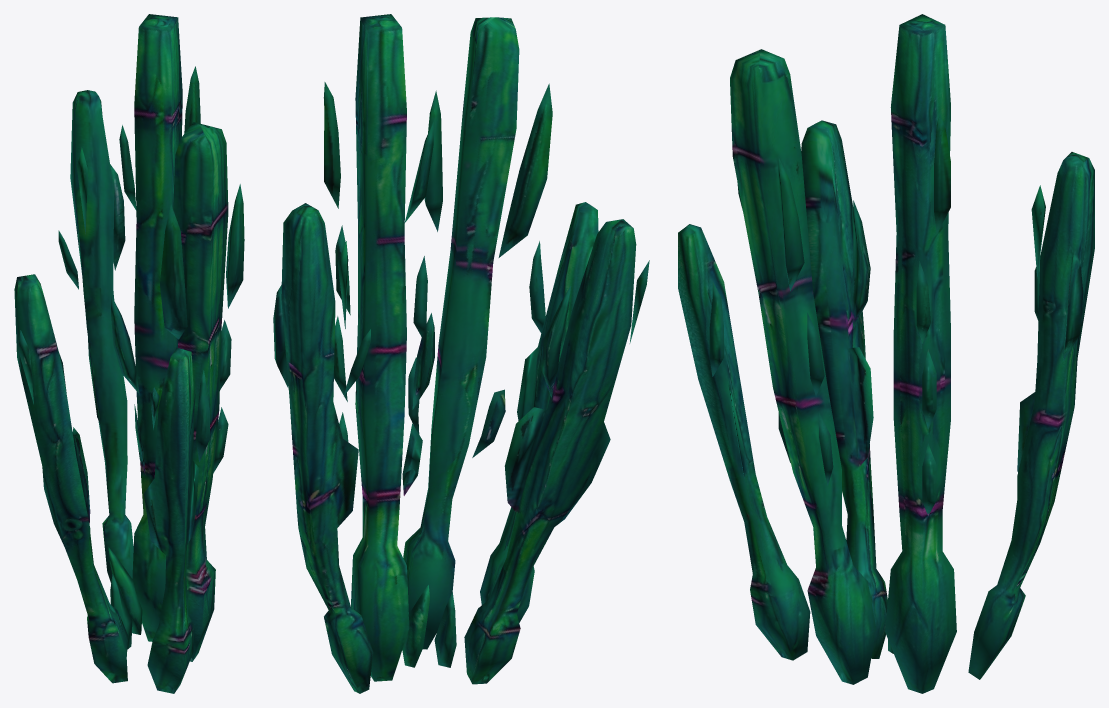
Rendered from Plant01.glb.
The picture shows the model from 3 angles, left to right: view 1: azimuth 30°, elevation 25°; view 2: azimuth 150°, elevation 25°; view 3: azimuth 270°, elevation 25°; orthographic projection. The views are drawn at different scales.
Parts seen in each view (by area): view 1: Plants.001; view 2: Plants.001; view 3: Plants.001.
Boxes of the visible parts, x1,y1,x2,y2 form: Plants.001: (14,14,244,693); Plants.001: (273,14,649,693); Plants.001: (678,14,1094,693).
Bounding box in the file's own units: 1.29 × 3.18 × 1.78.
1 material, 1 textured.
